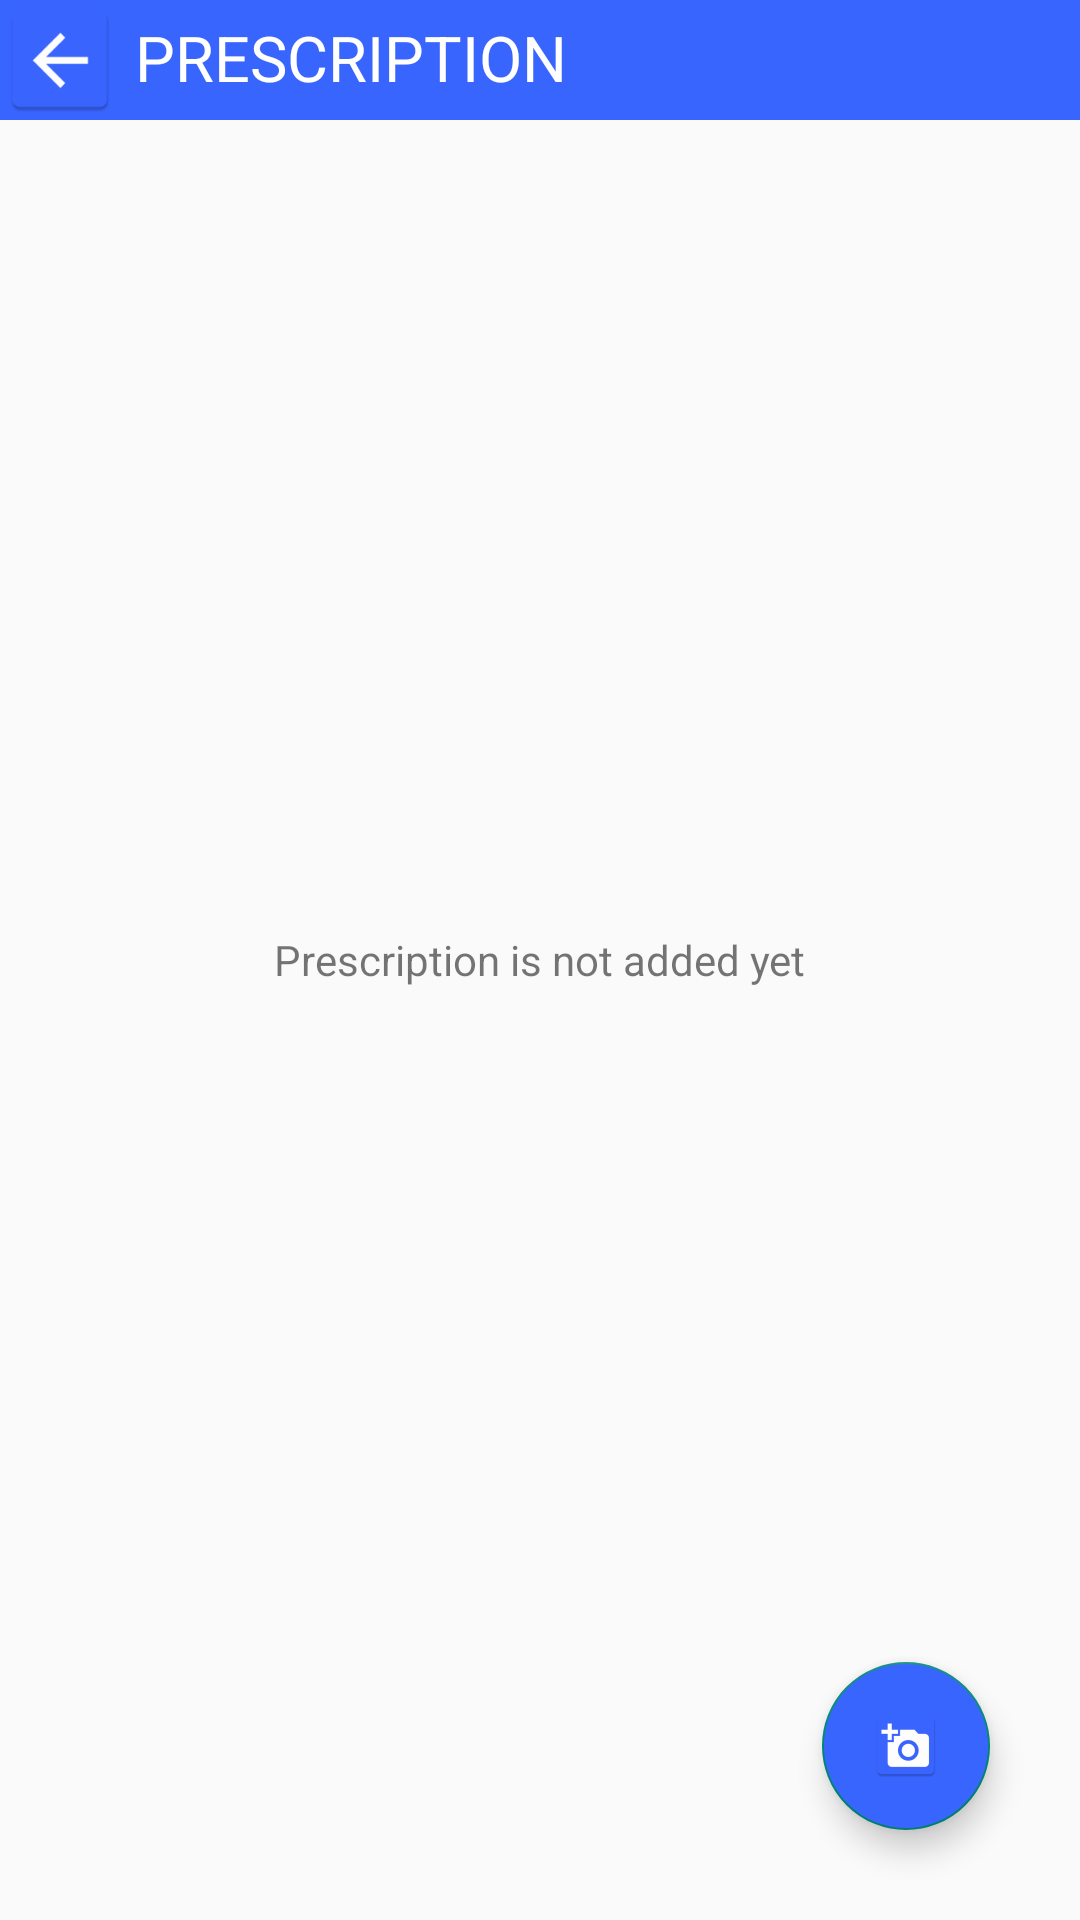

Screen size 1080px x 1920px. Icon name, then its box in pixels as (x1,y1,x2,y2):
add photo: (822,1662,990,1830)
back: (13,20,108,111)
